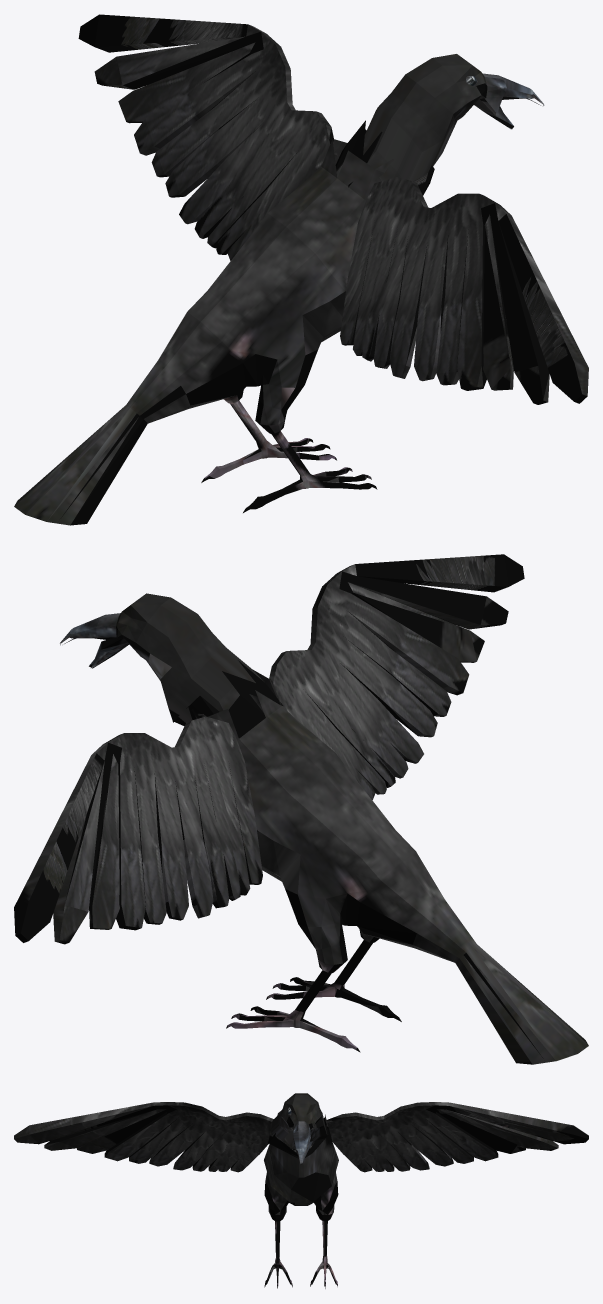
File: CrowBent0_000016.obj
3 views of the same model, one above another, from view 1: azimuth 30°, elevation 25°; view 2: azimuth 150°, elevation 25°; view 3: azimuth 270°, elevation 25° (orthographic). The views are drawn at different scales.
Parts seen in each view (by area): view 1: Cylinder.009, Cylinder.003, Cylinder.002, Cylinder.001; view 2: Cylinder.009, Cylinder.002, Cylinder.003, Cylinder.001; view 3: Cylinder.002, Cylinder.003, Cylinder.009, Cylinder.001.
Part boxes in pixels (x1,y1,x2,y2): Cylinder.009: [14, 139, 394, 525]; Cylinder.003: [340, 177, 588, 404]; Cylinder.002: [78, 14, 337, 260]; Cylinder.001: [335, 54, 544, 195]; Cylinder.009: [191, 670, 588, 1064]; Cylinder.002: [14, 716, 262, 944]; Cylinder.003: [269, 554, 524, 799]; Cylinder.001: [60, 593, 283, 738]; Cylinder.002: [325, 1102, 588, 1172]; Cylinder.003: [14, 1102, 273, 1172]; Cylinder.009: [264, 1110, 338, 1288]; Cylinder.001: [268, 1093, 328, 1164].
Size of the model in its own units: 5.62 by 3.94 by 9.33.
4 materials, 4 textured.
